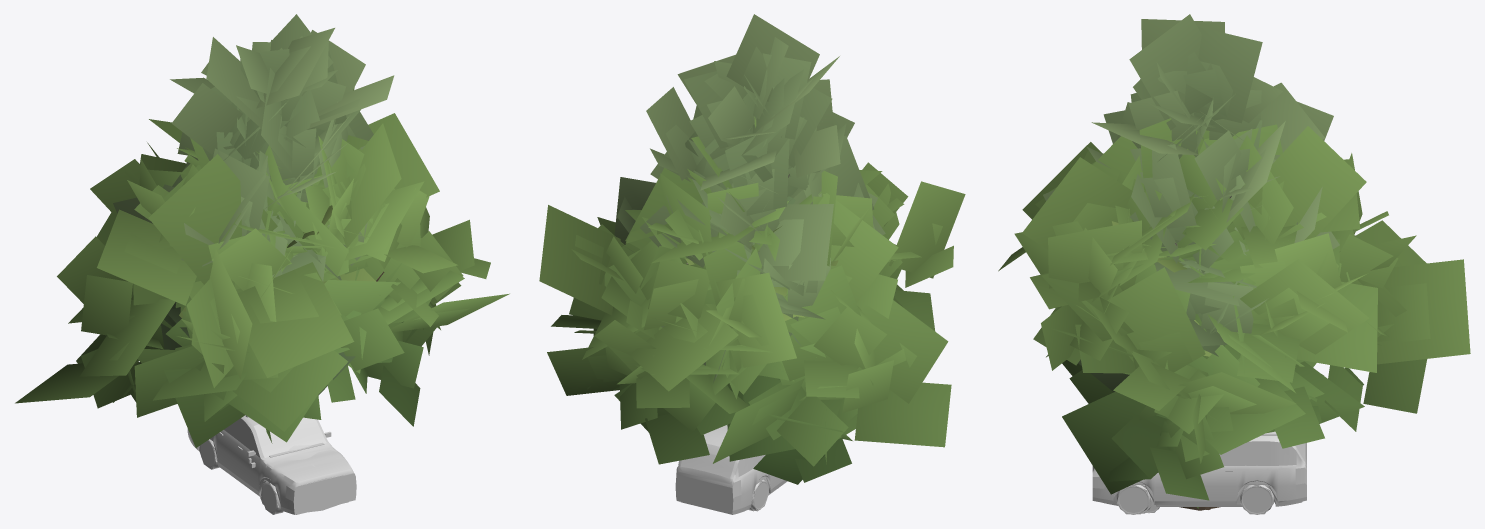
The model's file is world.glb.
3 renders of one model, left to right at view 1: azimuth 30°, elevation 25°; view 2: azimuth 150°, elevation 25°; view 3: azimuth 270°, elevation 25°, orthographic. The views are drawn at different scales.
Parts seen in each view (by area): view 1: Tree1L, Tree1, Tree2L, Tree2, Car2_Body, Car2_Glass, Car2_Trim, Car2L_Trim, Car2L_Body; view 2: Tree1, Tree1L, Tree2L, Tree2, Car2_Body, Car2_Glass, Car2L_Body, Car2_Trim; view 3: Tree1L, Tree1, Tree2L, Tree2, Car2_Body, Car2L_Trim, Car2_Glass, Car2_Trim, Car2L_Rim.
Part boxes in pixels (x1,y1,x2,y2): Tree1L: [15, 87, 509, 447]; Tree1: [57, 139, 490, 443]; Tree2L: [113, 14, 394, 395]; Tree2: [144, 36, 367, 346]; Car2_Body: [187, 415, 355, 510]; Car2_Glass: [224, 417, 326, 457]; Car2_Trim: [188, 415, 356, 514]; Car2L_Trim: [188, 434, 355, 514]; Car2L_Body: [210, 438, 345, 502]; Tree1: [571, 162, 953, 484]; Tree1L: [539, 116, 965, 463]; Tree2L: [614, 14, 875, 382]; Tree2: [632, 46, 885, 335]; Car2_Body: [675, 425, 783, 510]; Car2_Glass: [680, 444, 765, 478]; Car2L_Body: [676, 434, 770, 506]; Car2_Trim: [676, 455, 786, 514]; Tree1L: [998, 118, 1470, 509]; Tree1: [1030, 149, 1430, 510]; Tree2L: [1043, 14, 1333, 391]; Tree2: [1086, 52, 1339, 379]; Car2_Body: [1092, 431, 1306, 501]; Car2L_Trim: [1092, 484, 1289, 514]; Car2_Glass: [1219, 441, 1305, 465]; Car2_Trim: [1093, 433, 1306, 514]; Car2L_Rim: [1123, 491, 1266, 508].
Bounding box in the file's own units: 11.34 × 11.84 × 10.75.
